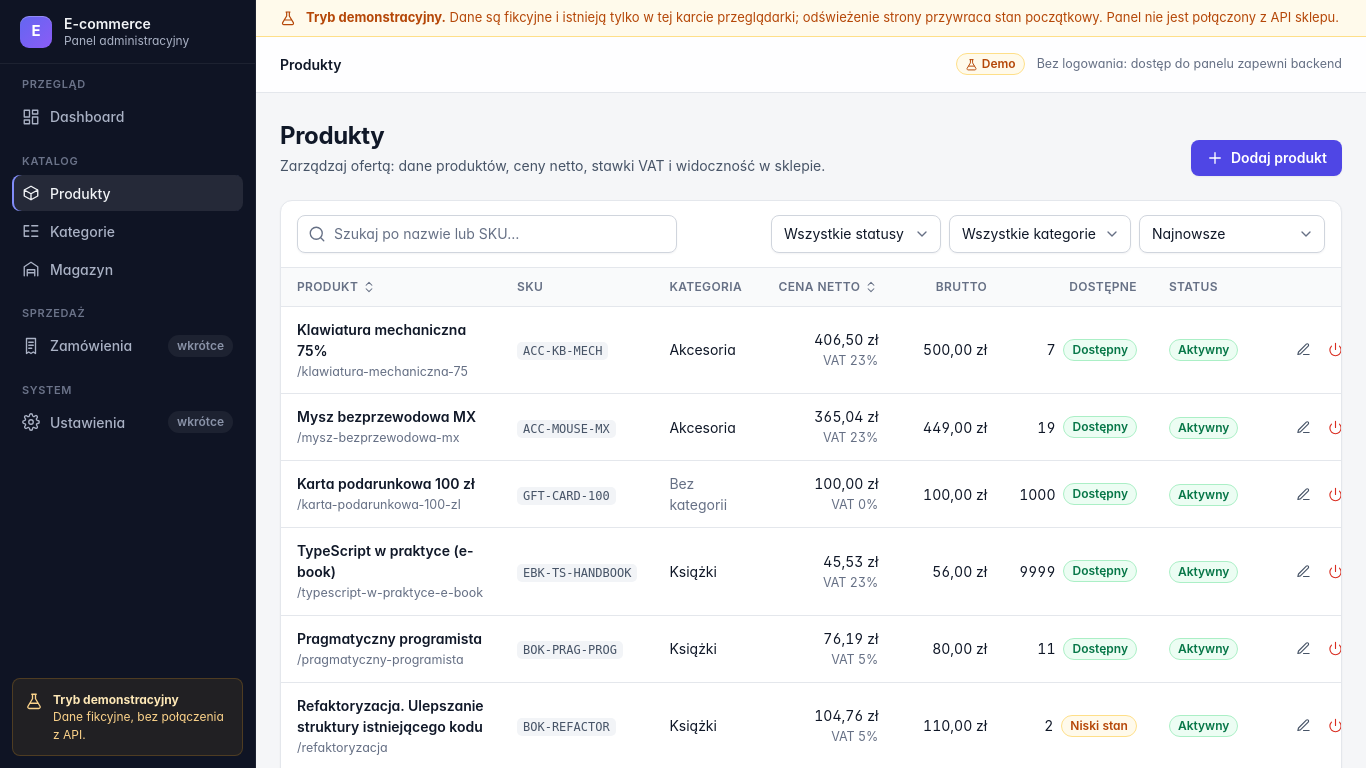
Test: ProductsPage › searches by name or SKU and keeps the filter in the URL
Type "BOK-" into the search field labelled "Szukaj po nazwie lub SKU" at (487, 234), box [297,214,677,252]
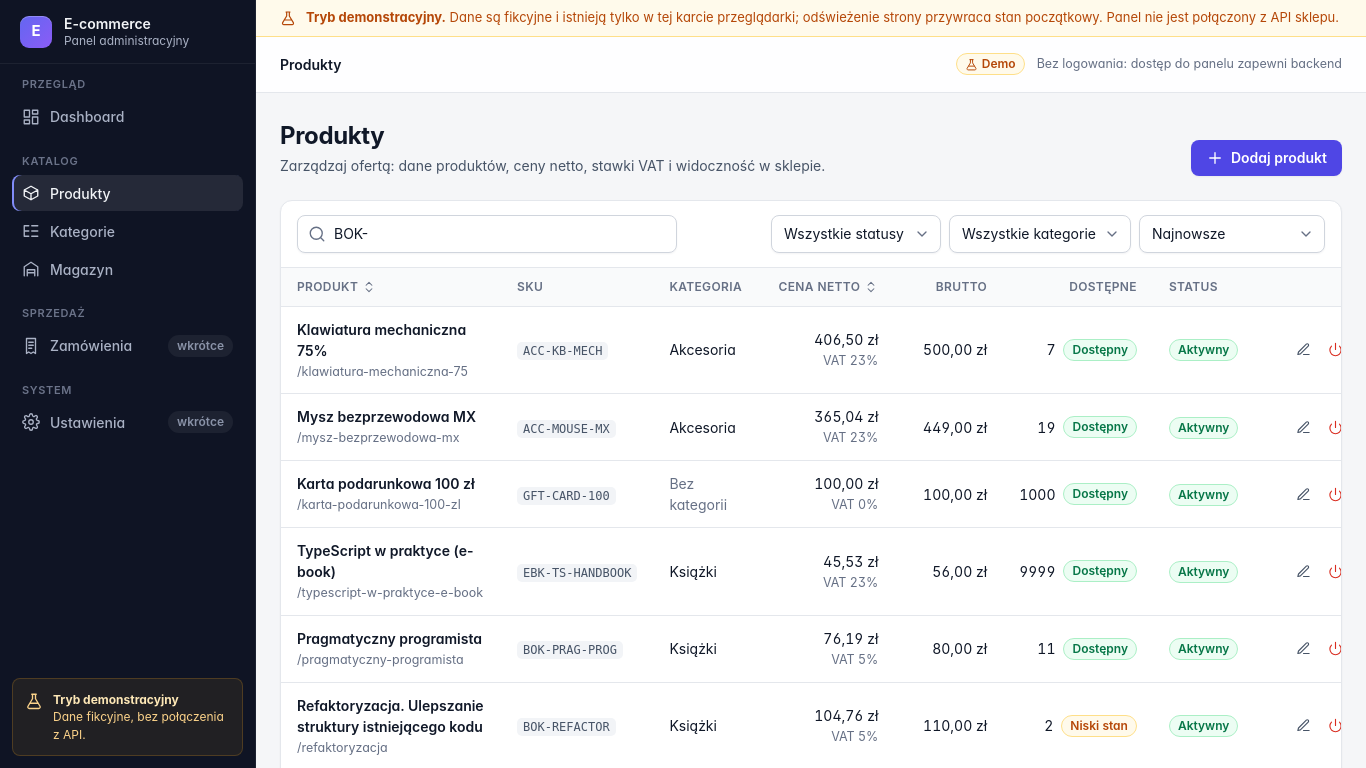
Press Enter in the search field named "Szukaj po nazwie lub SKU", box [297,214,677,252]
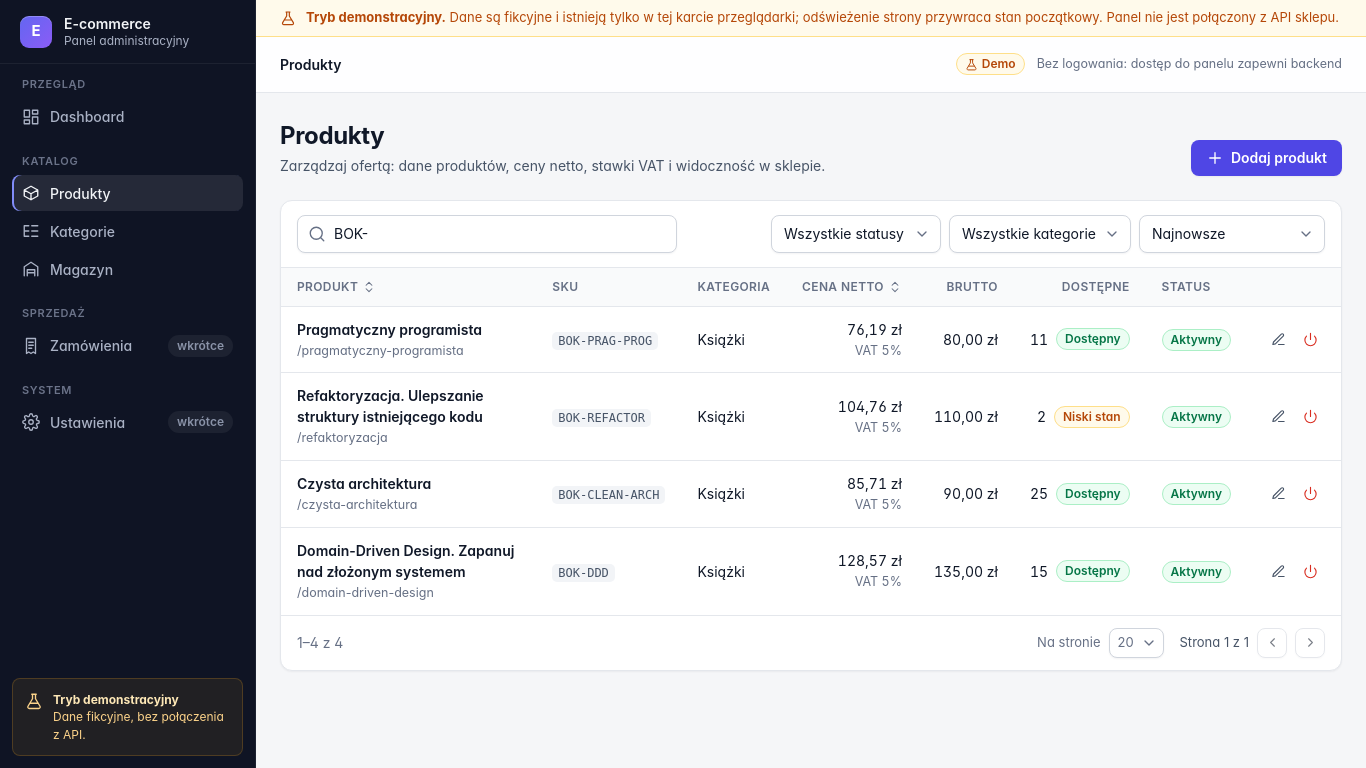
Check: the text "1–4 z 4" is shown, box [297,632,343,653]
